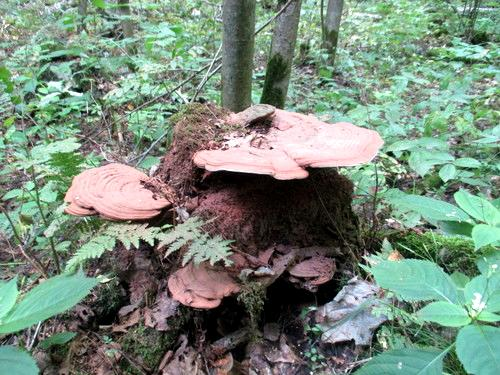Ganoderma - Fruit Body: (188, 99, 388, 184), (65, 159, 172, 226), (164, 246, 269, 309)
